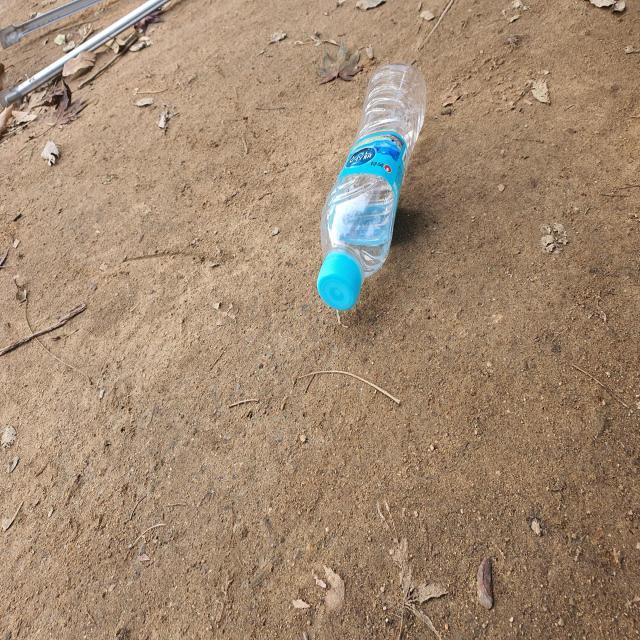plastic: (317, 62, 426, 310)
